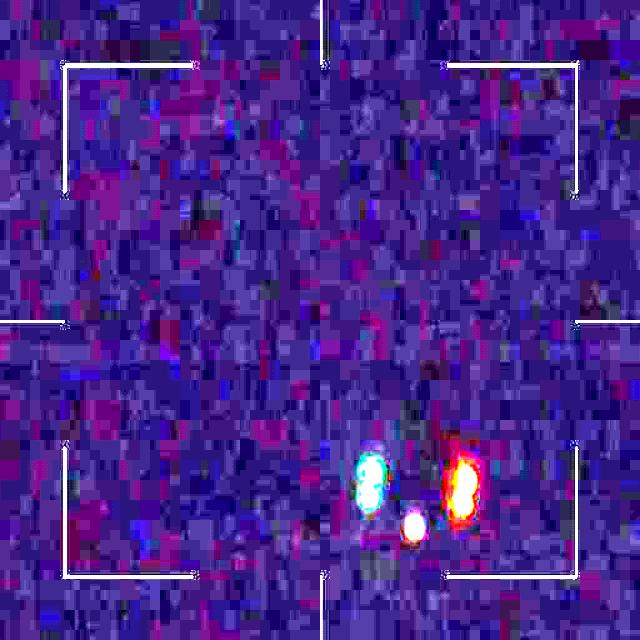bird: (359, 455, 478, 541)
